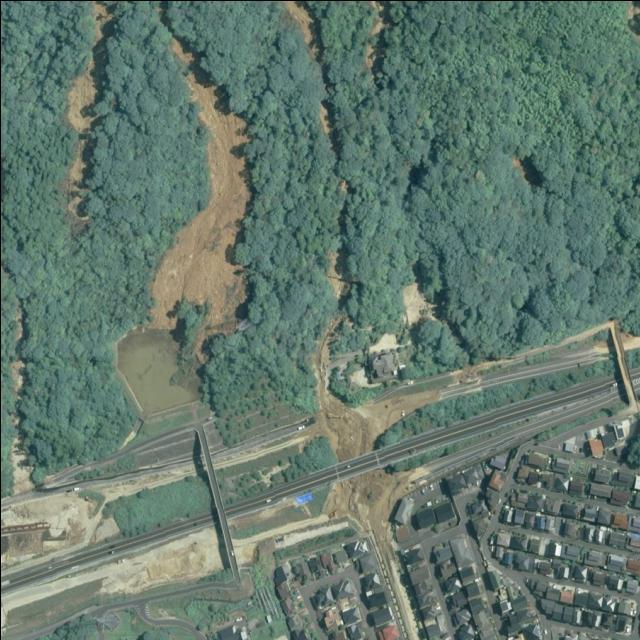landslide: (147, 71, 249, 357), (60, 48, 96, 223), (403, 281, 435, 324), (90, 0, 111, 51)
